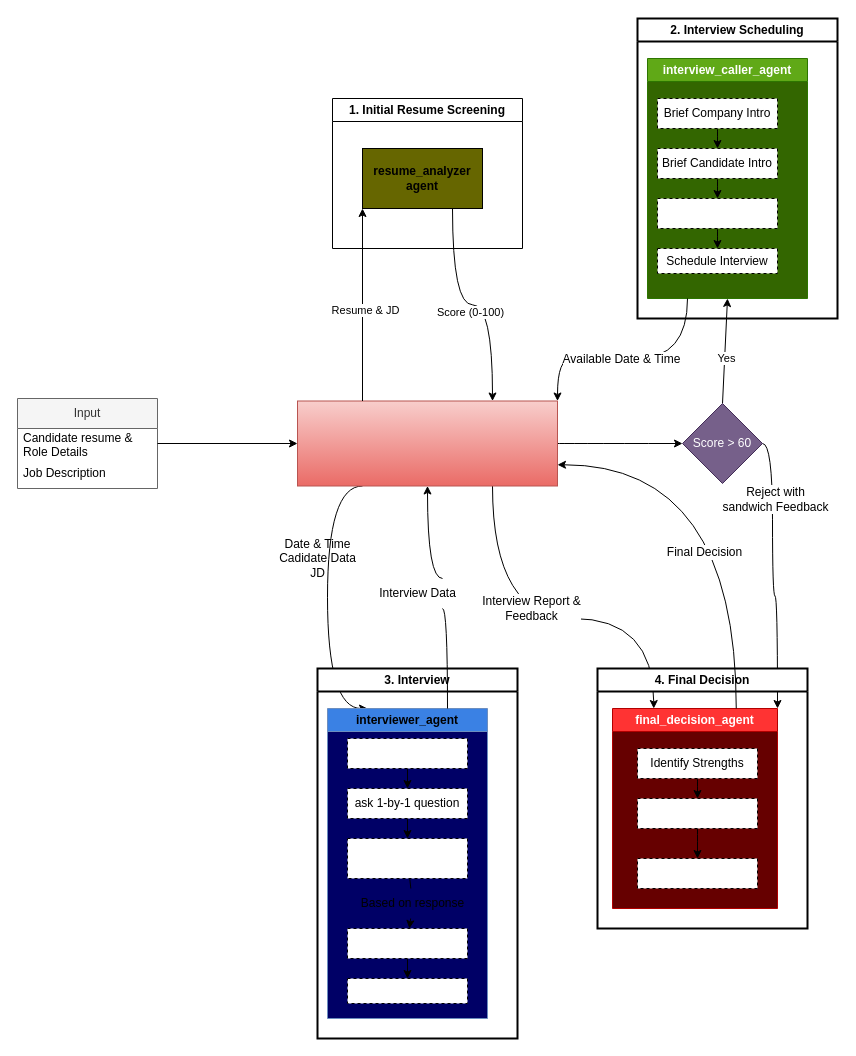
The diagram is 856 pixels wide and 1056 high, and some of its shapes have lost their labels. The shapes that lost their labels are listed below. From the top down, each one's centre as x and y in pixels, then its label:
pixel 717 213: Screen Questions
pixel 427 443: HR_Agent
pixel 407 753: Greetings & Intro
pixel 697 813: Identify Weaknesses
pixel 407 858: Topic-Specific Questions
pixel 697 873: Selection Decision
pixel 407 943: Follow-up Questions
pixel 407 991: Farewell Message
